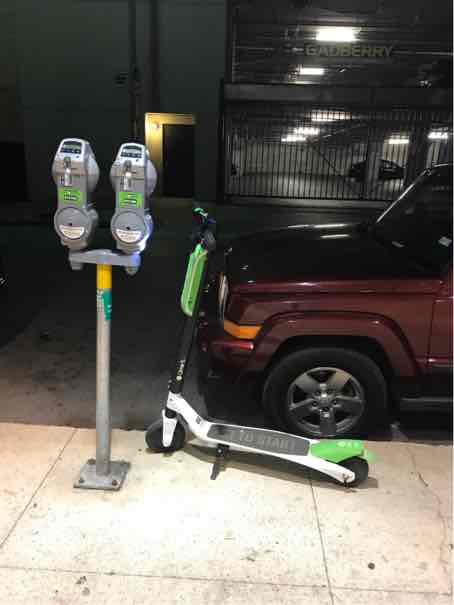scooter: (142, 187, 379, 498)
